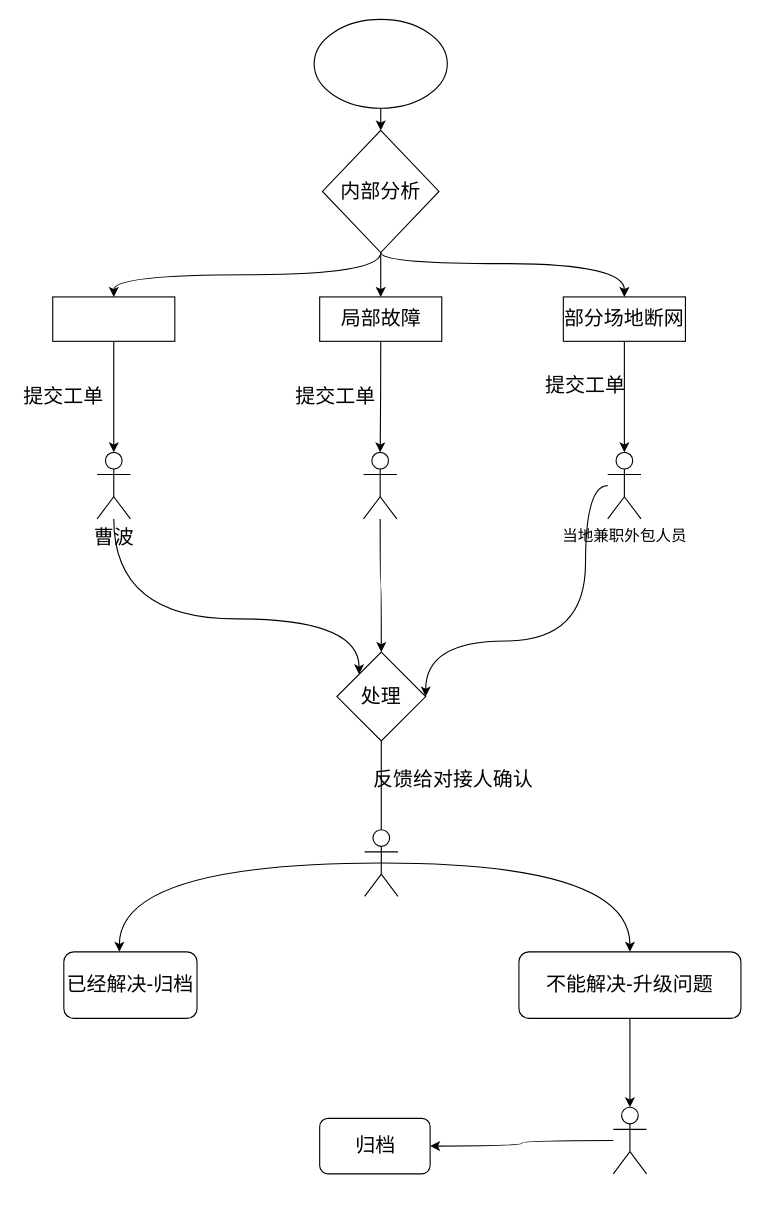
The diagram is 760 pixels wide and 1225 high, and some of its shapes have lost their labels. Here are the shapes that lost their labels. From the top down, the centre of each, then its label:
At point (380, 63): "出现故障".
At point (113, 318): "大面积故障".
At point (379, 485): "常艺航".
At point (381, 862): "对接人确认".
At point (629, 1140): "升级给孟凡强处理".
